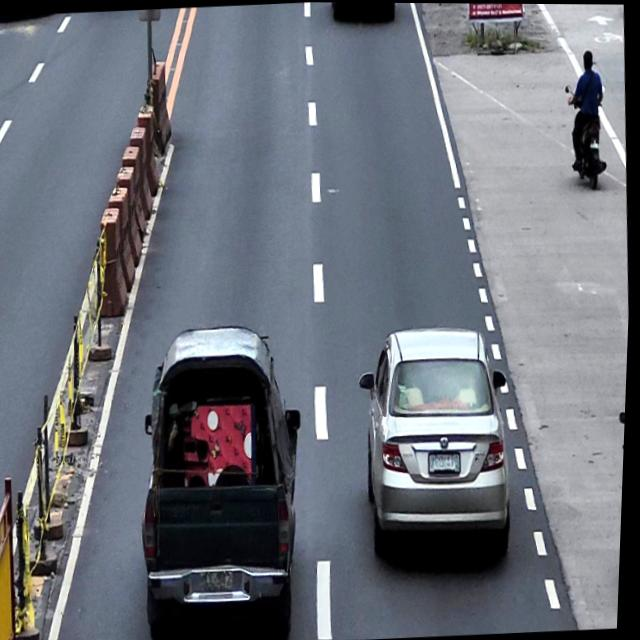Car: (135, 317, 321, 640), (352, 322, 525, 586)
License-Plate: (429, 450, 467, 477), (201, 568, 239, 593)
Motorcycle: (561, 79, 611, 193)
